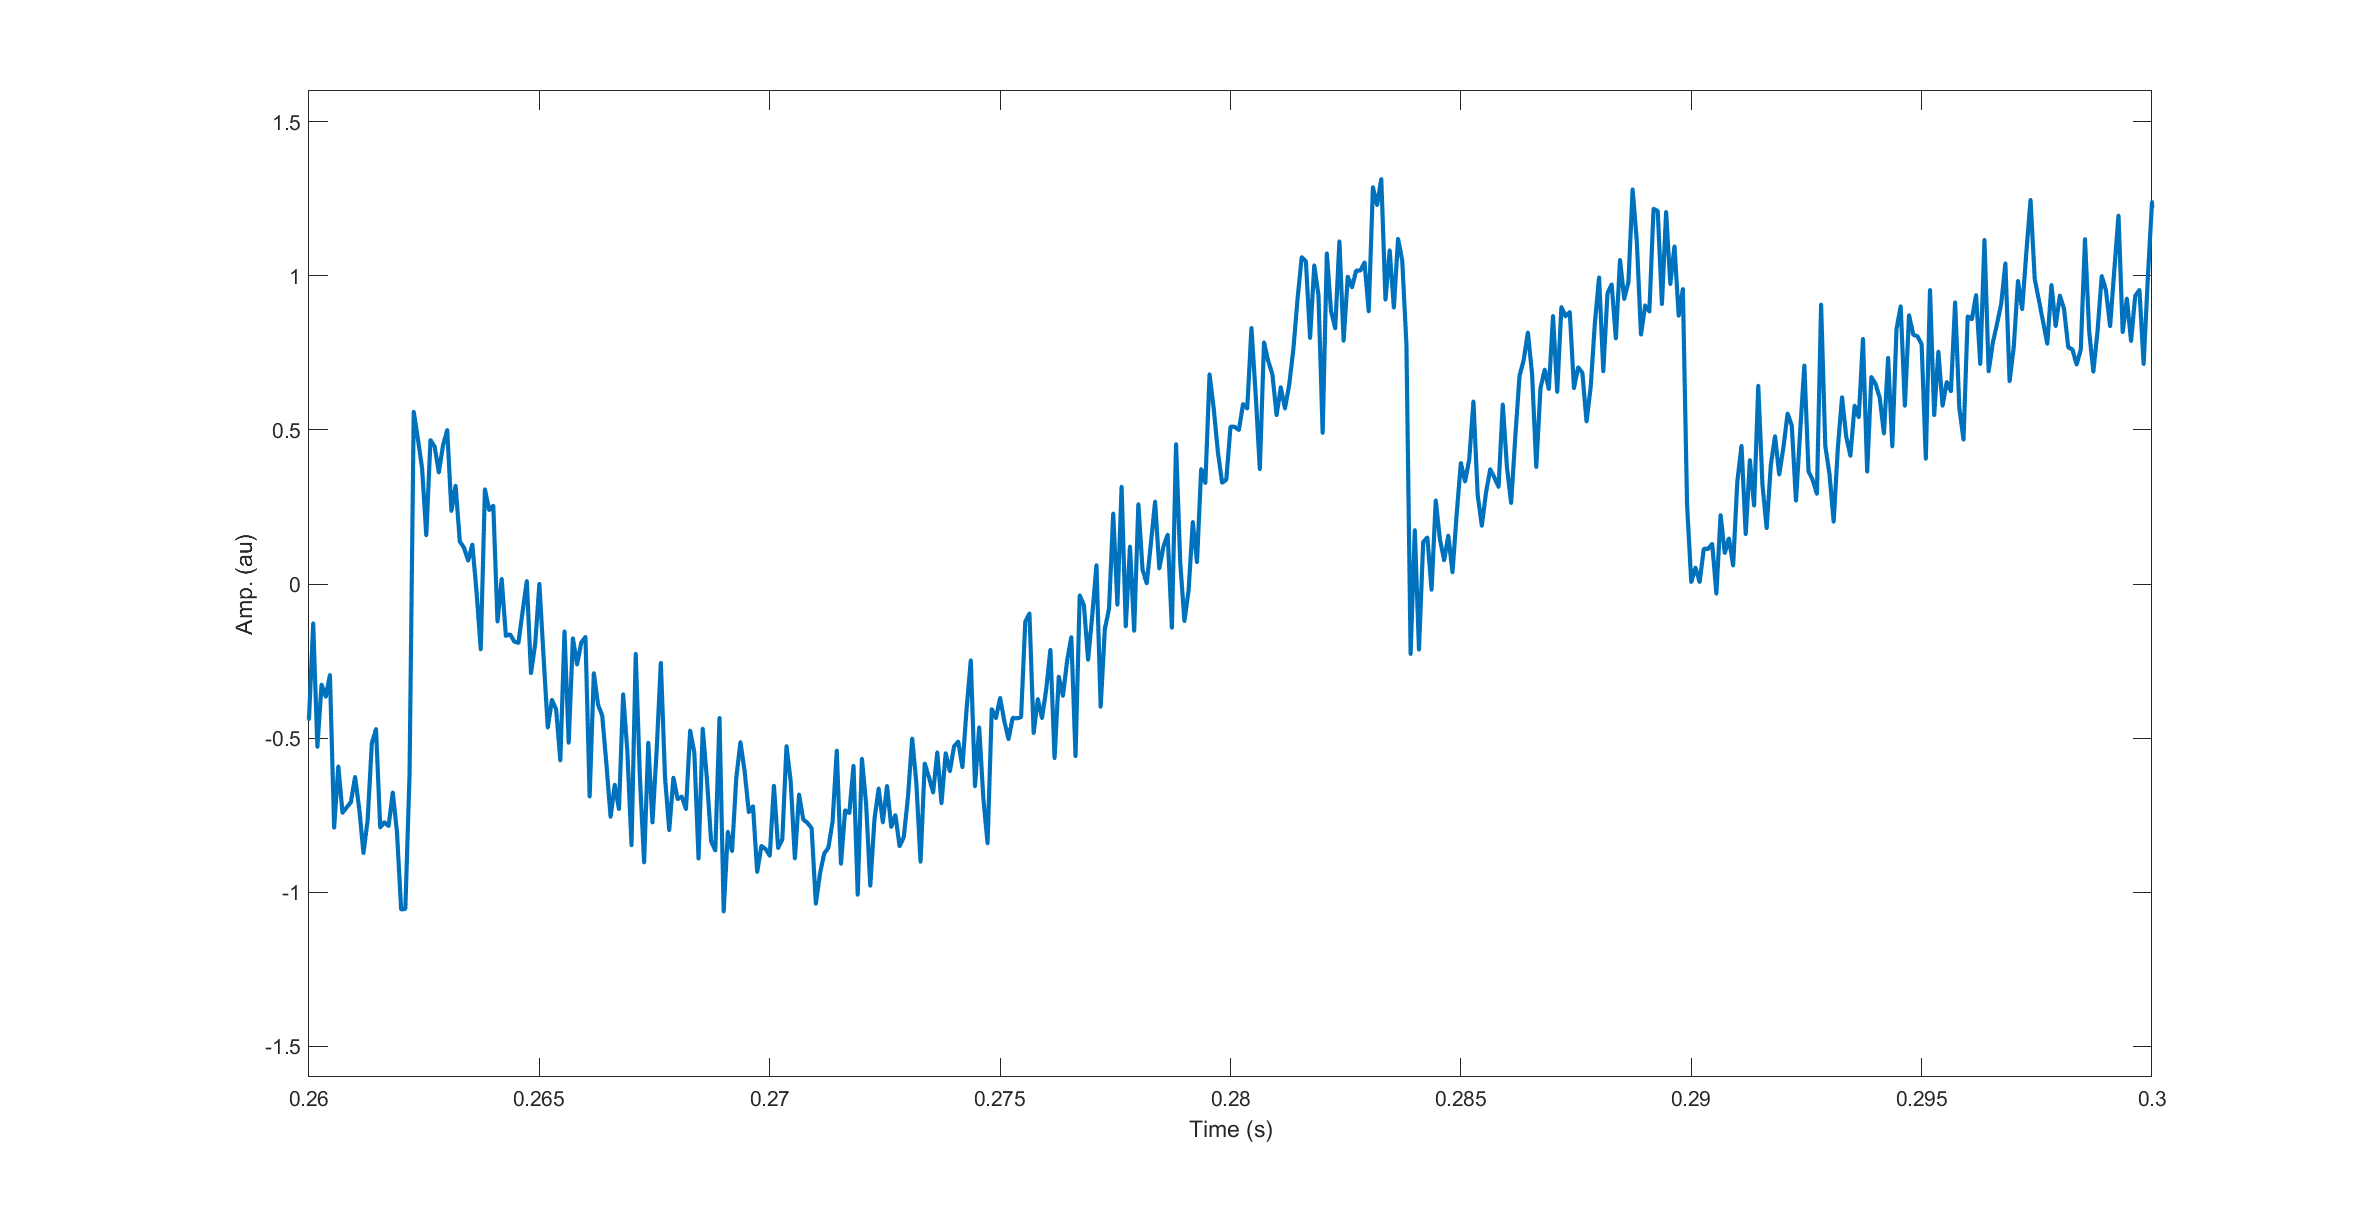negative_fringe: (398, 387, 556, 901)
positive_fringe: (1443, 170, 1691, 614), (1214, 161, 1420, 661)
